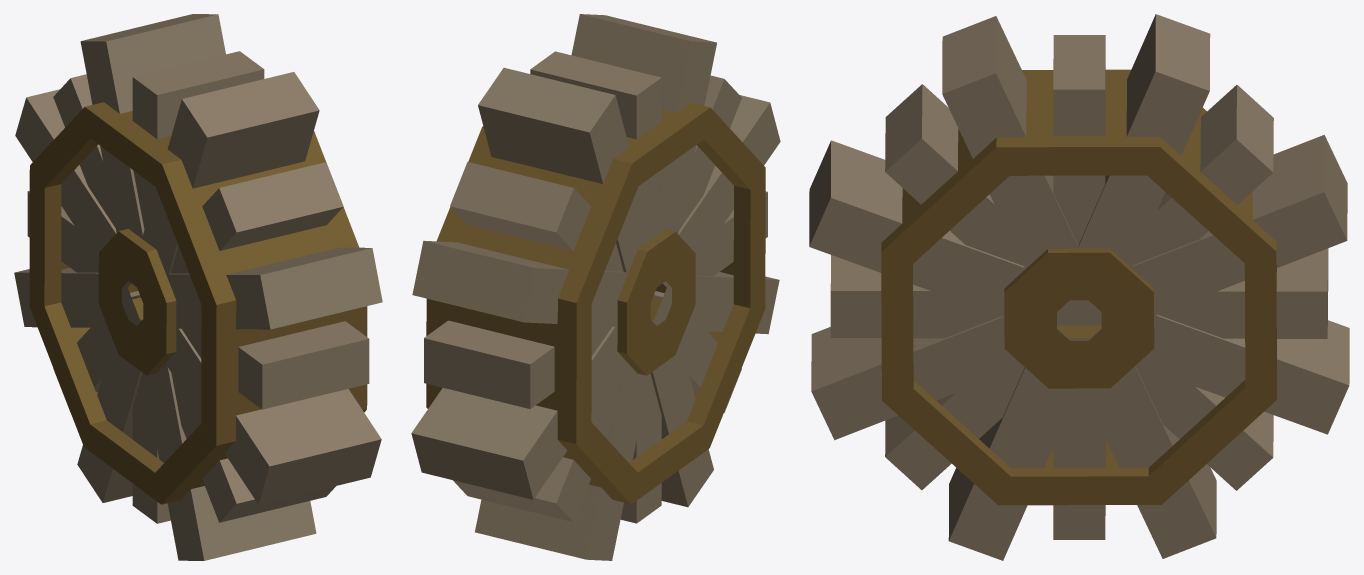
The model's file is wheel_2.fbx.
3 renders of one model, left to right at view 1: azimuth 30°, elevation 25°; view 2: azimuth 150°, elevation 25°; view 3: azimuth 270°, elevation 25°, orthographic. The views are drawn at different scales.
Visible parts, largest first — view 1: polySurface476, polySurface464, polySurface465, polySurface466; view 2: polySurface476, polySurface464, polySurface465, polySurface466; view 3: polySurface476, polySurface465, polySurface464, polySurface466.
Boxes of the visible parts, left/top/right/bottom form: polySurface476: left=14, top=14, right=382, bottom=560; polySurface464: left=29, top=102, right=367, bottom=504; polySurface465: left=27, top=51, right=369, bottom=523; polySurface466: left=98, top=228, right=176, bottom=375; polySurface476: left=411, top=14, right=780, bottom=560; polySurface464: left=426, top=102, right=765, bottom=504; polySurface465: left=424, top=51, right=767, bottom=523; polySurface466: left=617, top=229, right=695, bottom=375; polySurface476: left=809, top=14, right=1349, bottom=560; polySurface465: left=830, top=35, right=1328, bottom=539; polySurface464: left=881, top=69, right=1276, bottom=505; polySurface466: left=1004, top=248, right=1154, bottom=388.
Size of the model in its own units: 1.6 by 4.67 by 4.68.
